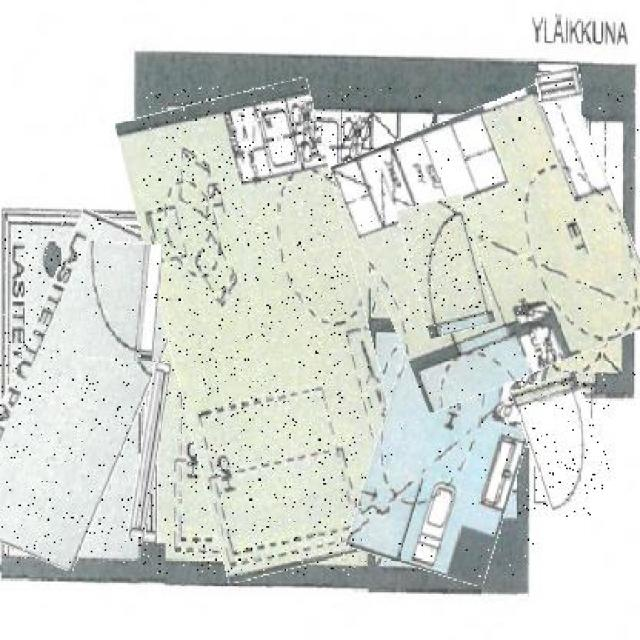door: (522, 374, 609, 517), (404, 197, 488, 335), (78, 242, 160, 360)
window: (132, 363, 165, 542), (537, 69, 581, 105)
zone: (143, 87, 392, 576), (349, 91, 640, 392), (0, 213, 171, 564), (362, 324, 536, 578)
